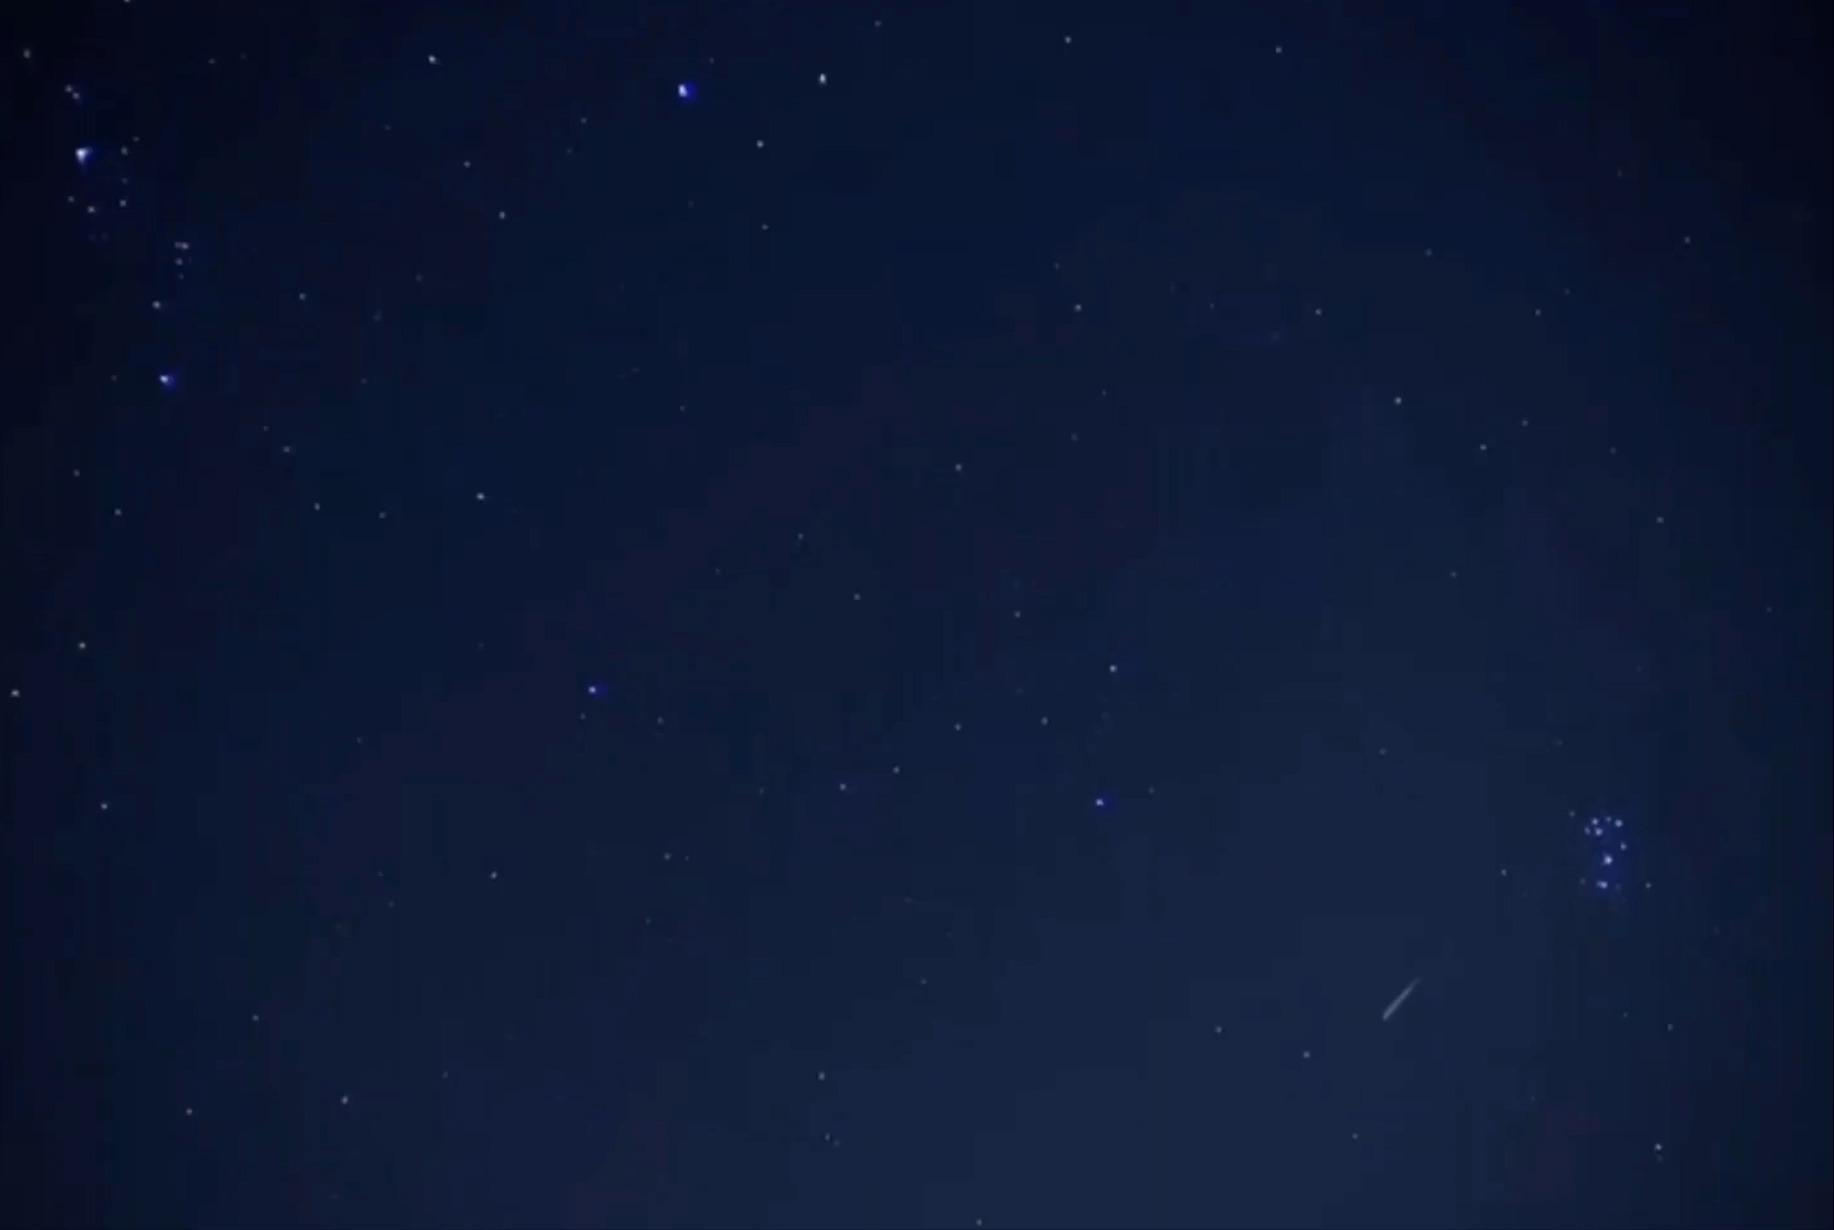meteorite: (1345, 968, 1456, 1043)
